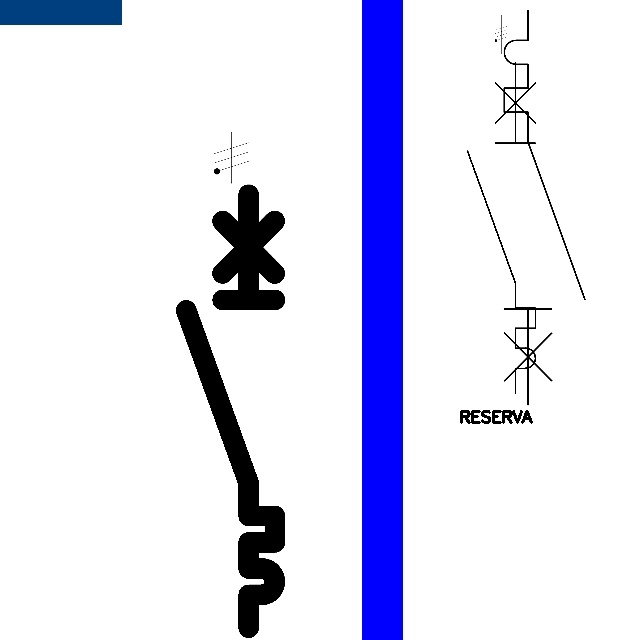interruptor_termomagnetico: (175, 183, 286, 638), (494, 0, 595, 414), (459, 54, 544, 401)
